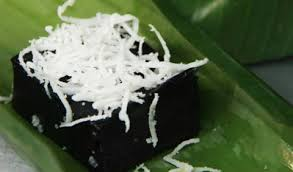kanompiakpoon: (10, 13, 204, 172)
